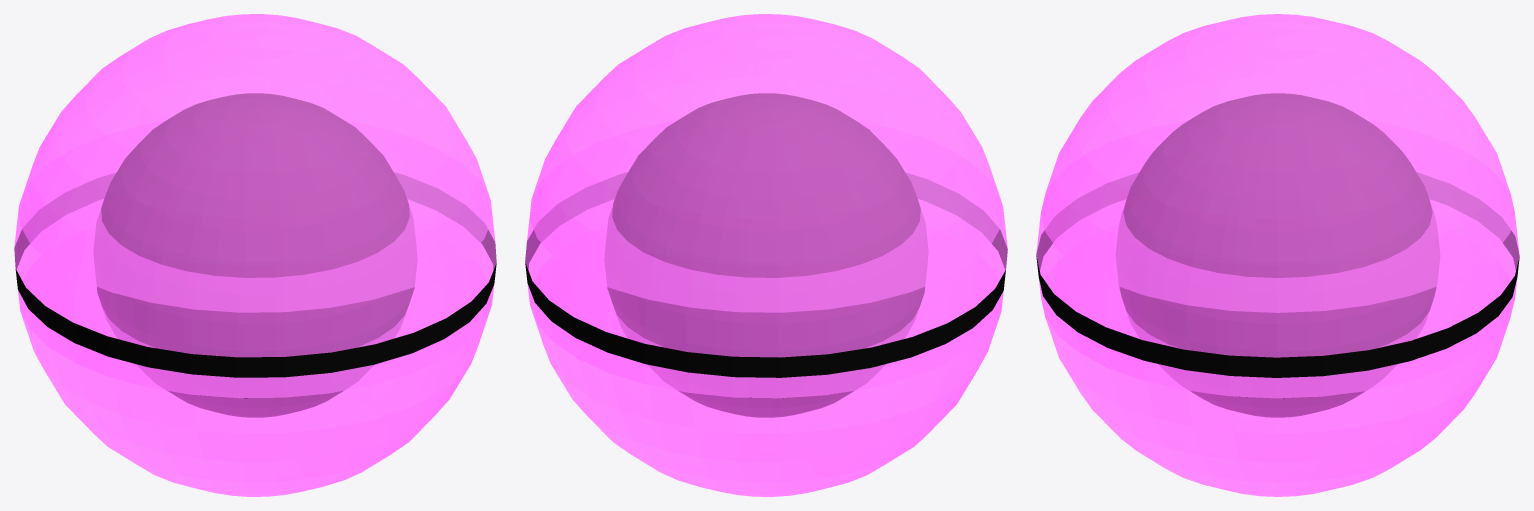
File: MemoryGameRezItem2.fbx
3 views of the same model, side by side, from view 1: azimuth 30°, elevation 25°; view 2: azimuth 150°, elevation 25°; view 3: azimuth 270°, elevation 25° (orthographic).
Visible parts, largest first — view 1: Sphere, Sphere.001; view 2: Sphere, Sphere.001; view 3: Sphere, Sphere.001.
Boxes of the visible parts, left/top/right/bottom form: Sphere: left=14, top=14, right=496, bottom=496; Sphere.001: left=97, top=93, right=414, bottom=417; Sphere: left=525, top=14, right=1007, bottom=496; Sphere.001: left=607, top=93, right=924, bottom=417; Sphere: left=1036, top=14, right=1519, bottom=496; Sphere.001: left=1119, top=93, right=1436, bottom=417.
Bounding box in the file's own units: 200 × 200 × 200.
